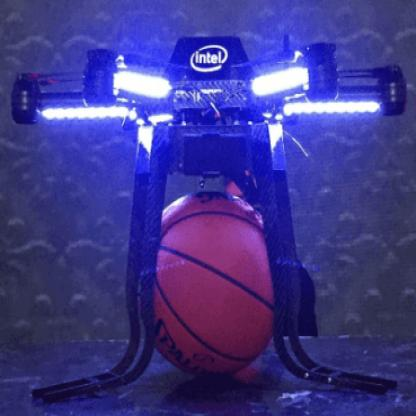drone: (17, 38, 416, 194)
